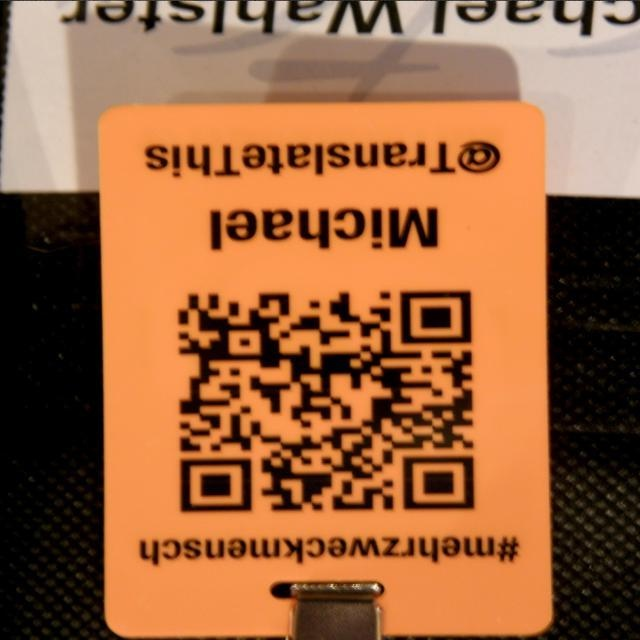qr-code: (177, 292, 474, 511)
